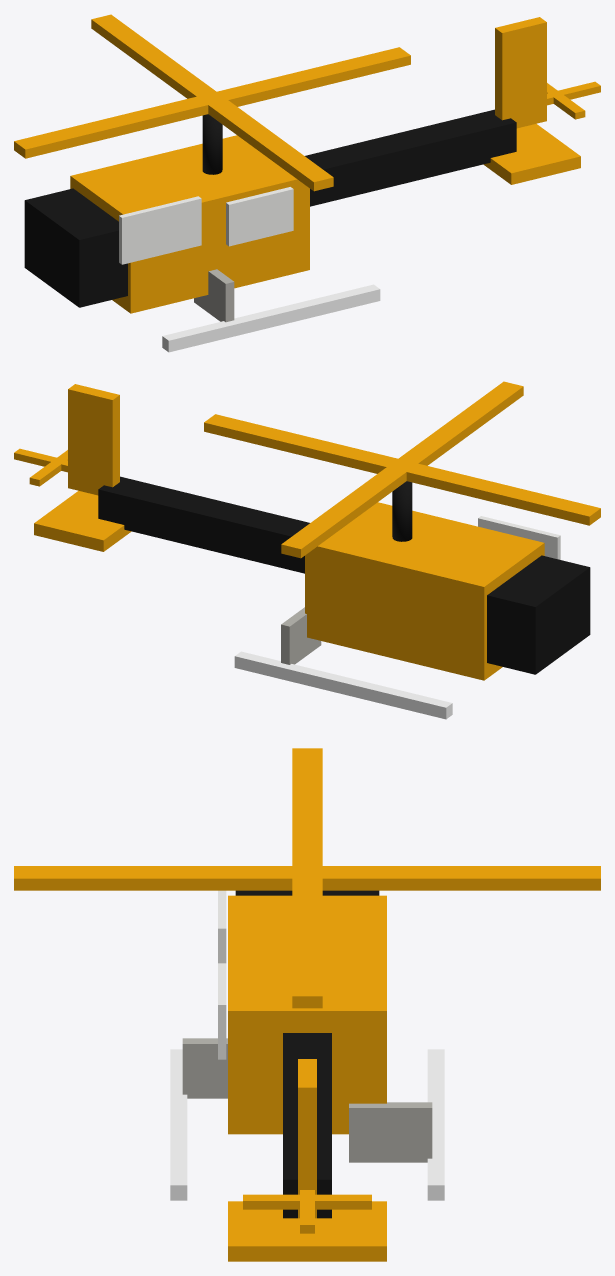
File: helicopter_orange.glb
3 renders of one model, top to bottom at view 1: azimuth 30°, elevation 25°; view 2: azimuth 150°, elevation 25°; view 3: azimuth 270°, elevation 25°, orthographic. The views are drawn at different scales.
Visible parts, largest first — view 1: helicopter cabin orange, helicopter tail boom, helicopter cabin black nose, helicopter long rotor blade.001, helicopter long rotor blade, helicopter vertical tail, helicopter windshield, helicopter skid left, helicopter tail fin, helicopter side window, helicopter skid strut left, helicopter rotor mast (+2 smaller); view 2: helicopter cabin orange, helicopter tail boom, helicopter cabin black nose, helicopter long rotor blade.001, helicopter long rotor blade, helicopter vertical tail, helicopter skid right, helicopter tail fin, helicopter skid strut right, helicopter windshield, helicopter rotor mast, helicopter tail rotor blade (+1 smaller); view 3: helicopter cabin orange, helicopter long rotor blade, helicopter tail fin, helicopter long rotor blade.001, helicopter tail boom, helicopter skid strut right, helicopter skid strut left, helicopter vertical tail, helicopter skid left, helicopter skid right, helicopter tail rotor blade, helicopter side window (+1 smaller).
Boxes of the visible parts, box(x1,y1,x2,y2) form: helicopter cabin orange: box(70, 135, 309, 313); helicopter tail boom: box(305, 109, 516, 206); helicopter cabin black nose: box(24, 188, 127, 307); helicopter long rotor blade.001: box(14, 47, 410, 158); helicopter long rotor blade: box(91, 14, 333, 191); helicopter vertical tail: box(495, 17, 546, 128); helicopter windshield: box(119, 196, 201, 264); helicopter skid left: box(162, 284, 380, 352); helicopter tail fin: box(483, 123, 580, 184); helicopter side window: box(226, 187, 293, 246); helicopter skid strut left: box(194, 269, 234, 322); helicopter rotor mast: box(202, 114, 222, 174); helicopter cabin orange: box(305, 502, 544, 680); helicopter tail boom: box(98, 476, 309, 573); helicopter cabin black nose: box(487, 555, 590, 674); helicopter long rotor blade.001: box(204, 414, 600, 525); helicopter long rotor blade: box(281, 381, 523, 558); helicopter vertical tail: box(68, 384, 119, 495); helicopter skid right: box(234, 651, 452, 719); helicopter tail fin: box(34, 490, 131, 551); helicopter skid strut right: box(281, 607, 321, 664); helicopter windshield: box(478, 516, 560, 559); helicopter rotor mast: box(392, 481, 412, 541); helicopter tail rotor blade: box(29, 450, 67, 486); helicopter cabin orange: box(228, 895, 386, 1134); helicopter long rotor blade: box(14, 866, 600, 890); helicopter tail fin: box(228, 1201, 386, 1261); helicopter long rotor blade.001: box(292, 748, 322, 1008); helicopter tail boom: box(283, 1033, 331, 1218); helicopter skid strut right: box(349, 1102, 432, 1162); helicopter skid strut left: box(182, 1038, 227, 1098); helicopter vertical tail: box(298, 1059, 316, 1218); helicopter skid left: box(170, 1049, 187, 1200); helicopter skid right: box(427, 1049, 444, 1200); helicopter tail rotor blade: box(243, 1194, 371, 1209); helicopter side window: box(218, 963, 226, 1059).
Bounding box in the file's own units: 2.33 × 0.74 × 1.55.
